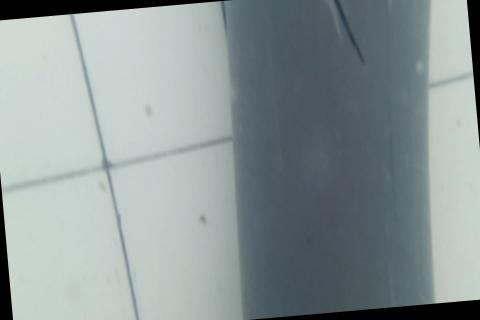keretakan: (321, 0, 368, 70)
